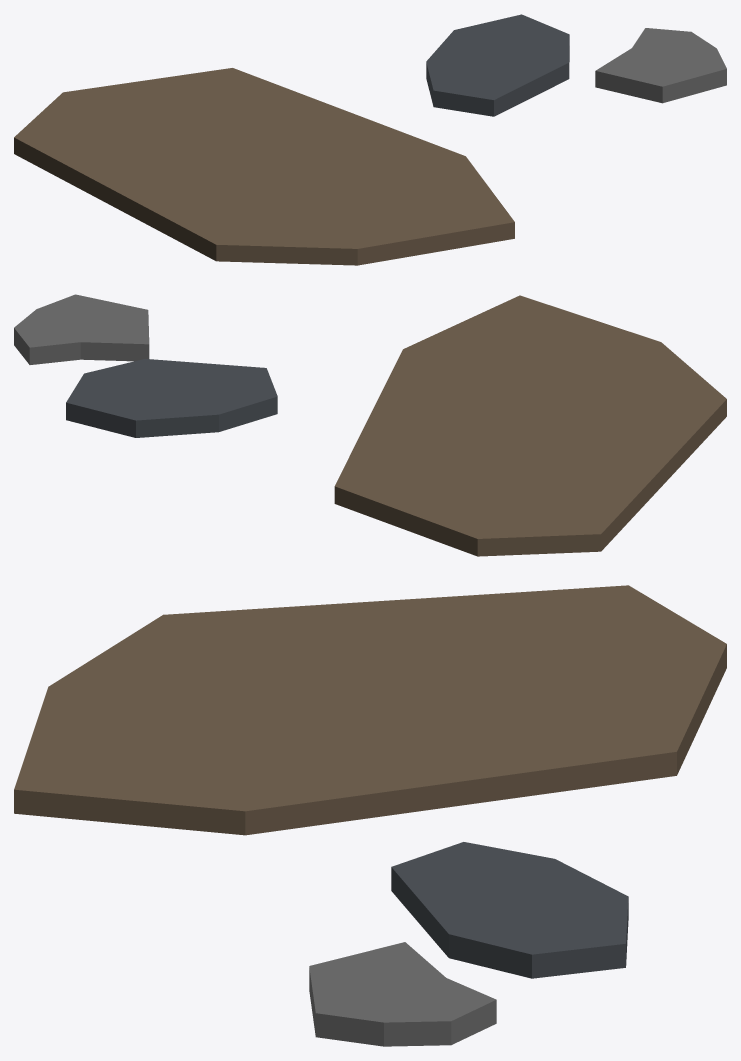
The model's file is AW_Stone05.fbx.
The picture shows the model from 3 angles, top to bottom: view 1: azimuth 30°, elevation 25°; view 2: azimuth 150°, elevation 25°; view 3: azimuth 270°, elevation 25°; orthographic projection. The views are drawn at different scales.
Parts seen in each view (by area): view 1: AW_Stone05; view 2: AW_Stone05; view 3: AW_Stone05.
Boxes of the visible parts, left/top/right/bottom form: AW_Stone05: left=14, top=14, right=726, bottom=265; AW_Stone05: left=14, top=294, right=726, bottom=556; AW_Stone05: left=14, top=585, right=726, bottom=1046.
Size of the model in its own units: 75.28 by 1.93 by 51.88.
Materials: 1 (1 with a texture image).
